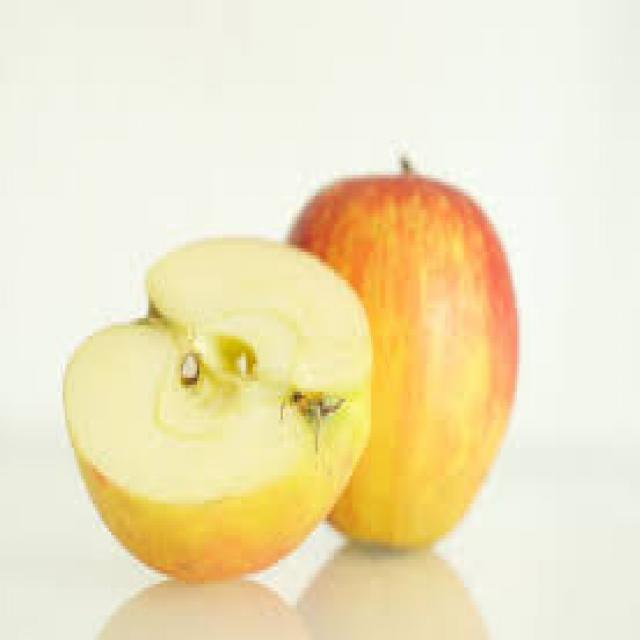Apple: (64, 237, 371, 581), (326, 172, 522, 544)
